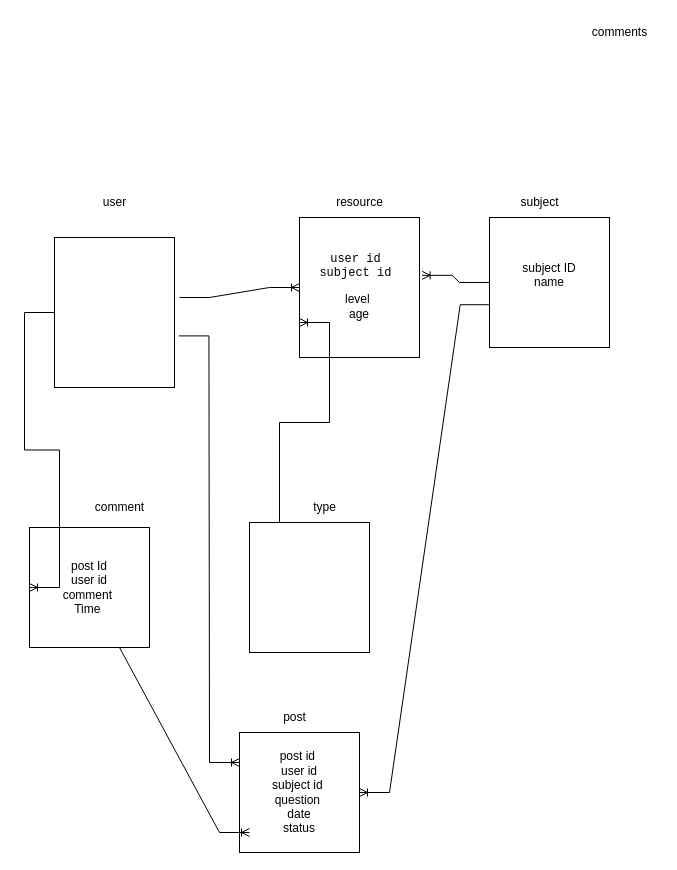
Some shapes in this 677 by 870 pixel diagram are drawn without their labels. Here are the shapes that lost their labels. From the top down, the centre of each, then its label:
At pixel 114 312: "User Id name email role".
At pixel 309 587: "type ID type (pdf/ws) subtype(revision /practice)".
